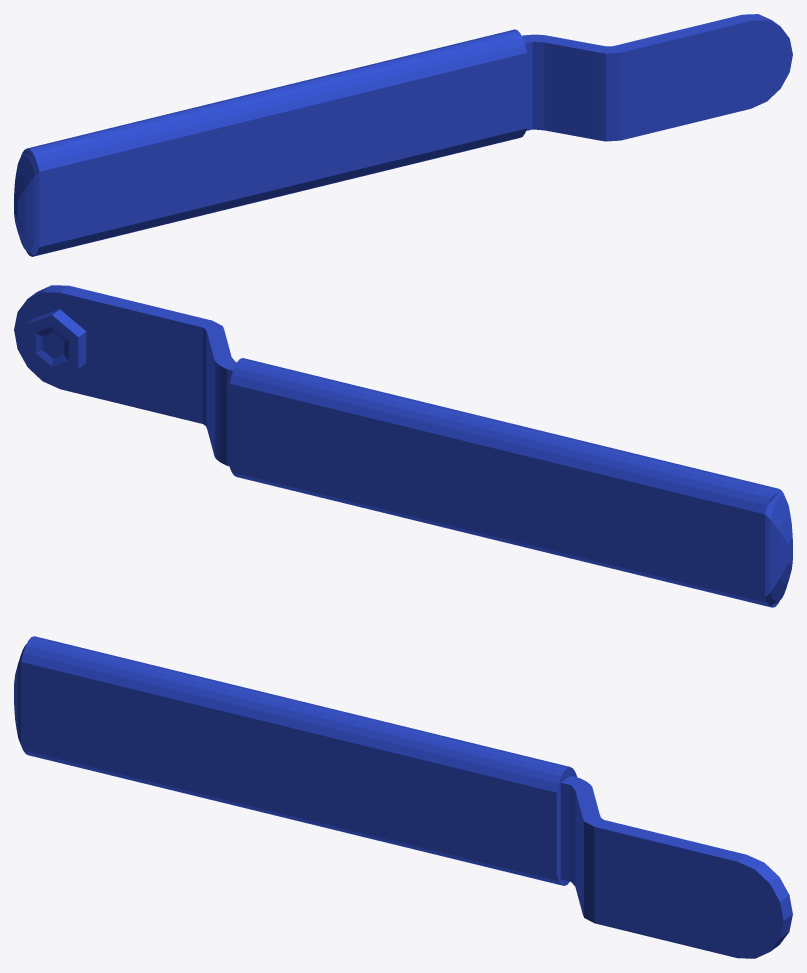
Rendered from valve.fbx.
3 views of the same model, one above another, from view 1: azimuth 30°, elevation 25°; view 2: azimuth 150°, elevation 25°; view 3: azimuth 330°, elevation 25° (orthographic). The views are drawn at different scales.
Parts seen in each view (by area): view 1: V02; view 2: V02; view 3: V02.
Boxes of the visible parts, box(x1,y1,x2,y2) form: V02: box(14, 14, 792, 256); V02: box(14, 285, 792, 607); V02: box(14, 636, 792, 958).
Bounding box in the file's own units: 23.8 × 3.29 × 2.72.
